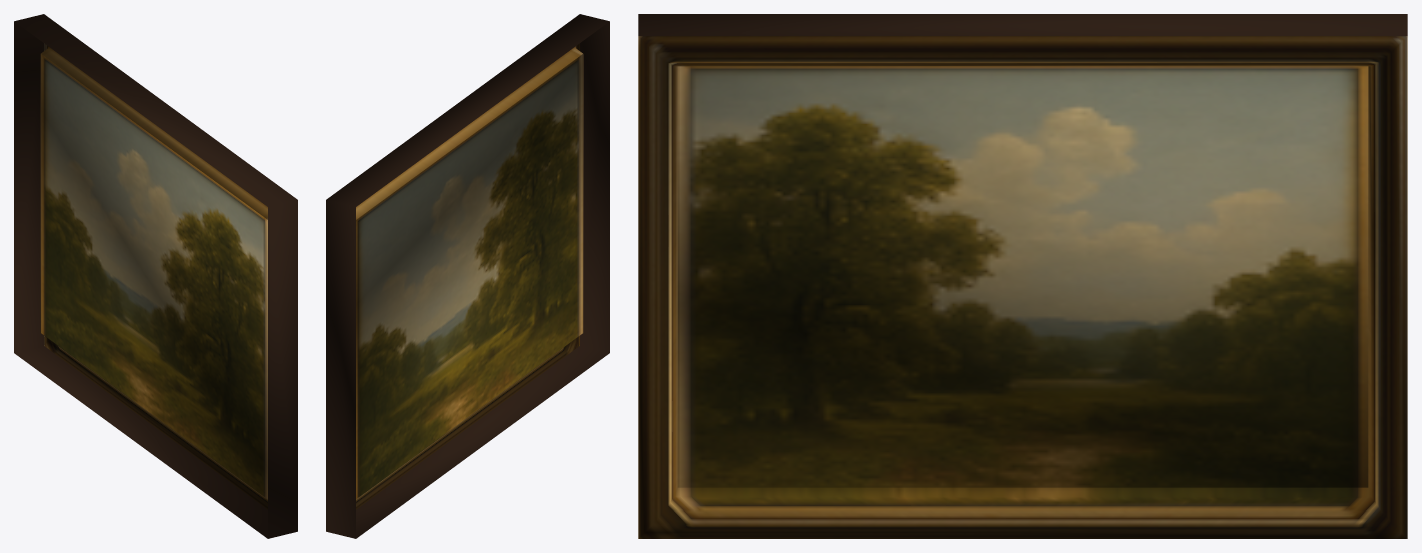
Rendered from painting_5.glb.
3 views of the same model, side by side, from view 1: azimuth 30°, elevation 25°; view 2: azimuth 150°, elevation 25°; view 3: azimuth 270°, elevation 25° (orthographic). The views are drawn at different scales.
Visible parts, largest first — view 1: painting_atlas_mueblesDormitorio1_0; view 2: painting_atlas_mueblesDormitorio1_0; view 3: painting_atlas_mueblesDormitorio1_0.
Boxes of the visible parts, x1=… form: painting_atlas_mueblesDormitorio1_0: x1=14, y1=14, x2=297, y2=538; painting_atlas_mueblesDormitorio1_0: x1=326, y1=14, x2=609, y2=538; painting_atlas_mueblesDormitorio1_0: x1=638, y1=14, x2=1407, y2=538.
Bounding box in the file's own units: 0.085 × 0.9 × 1.25.
1 material, 1 textured.
